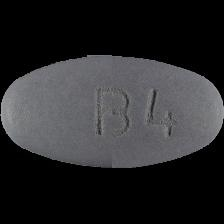0904-6364: (0, 0, 224, 224)
